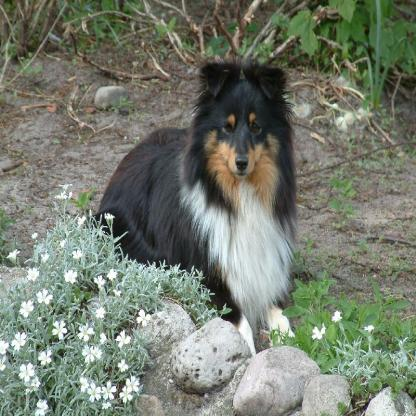Shetland_sheepdog: (64, 60, 299, 356)
